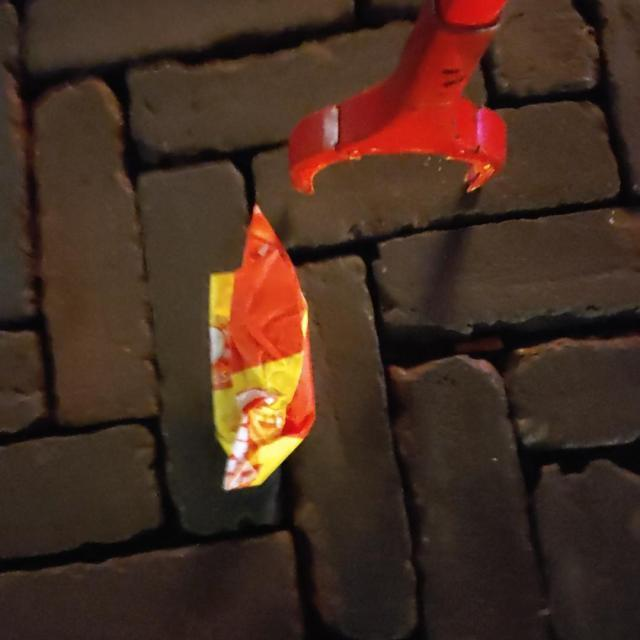Paper: (205, 200, 316, 493)
